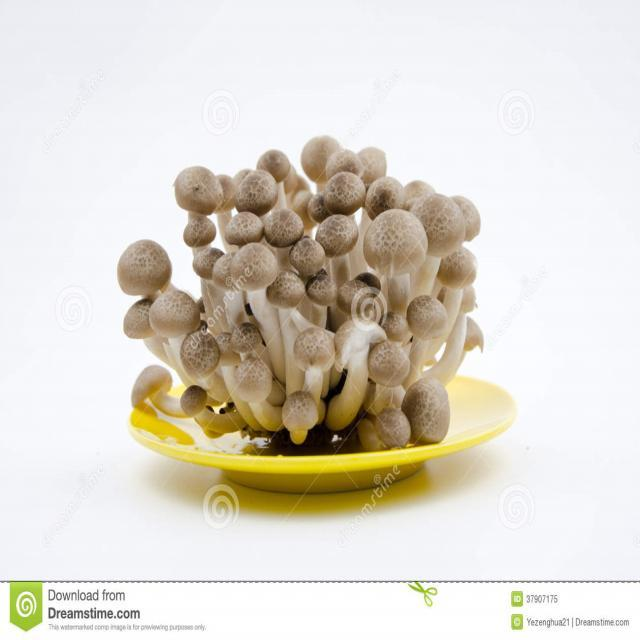Hypsizygus marmoreus: (118, 137, 483, 447)
